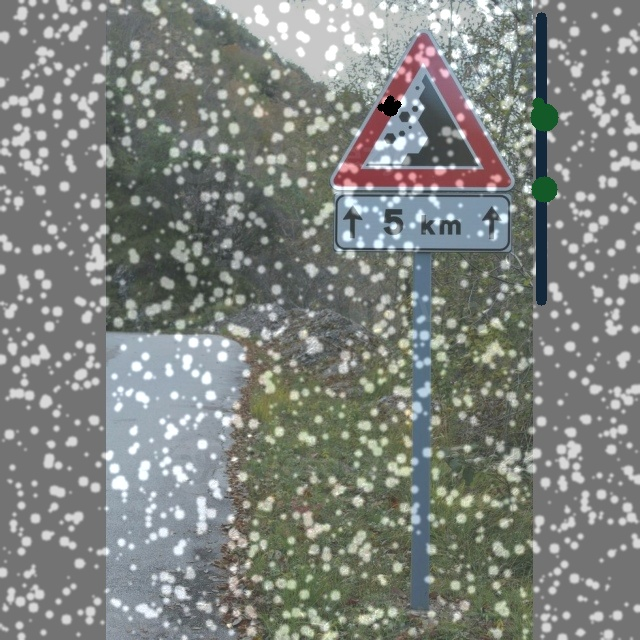Falling_Rocks: (331, 33, 513, 190)
